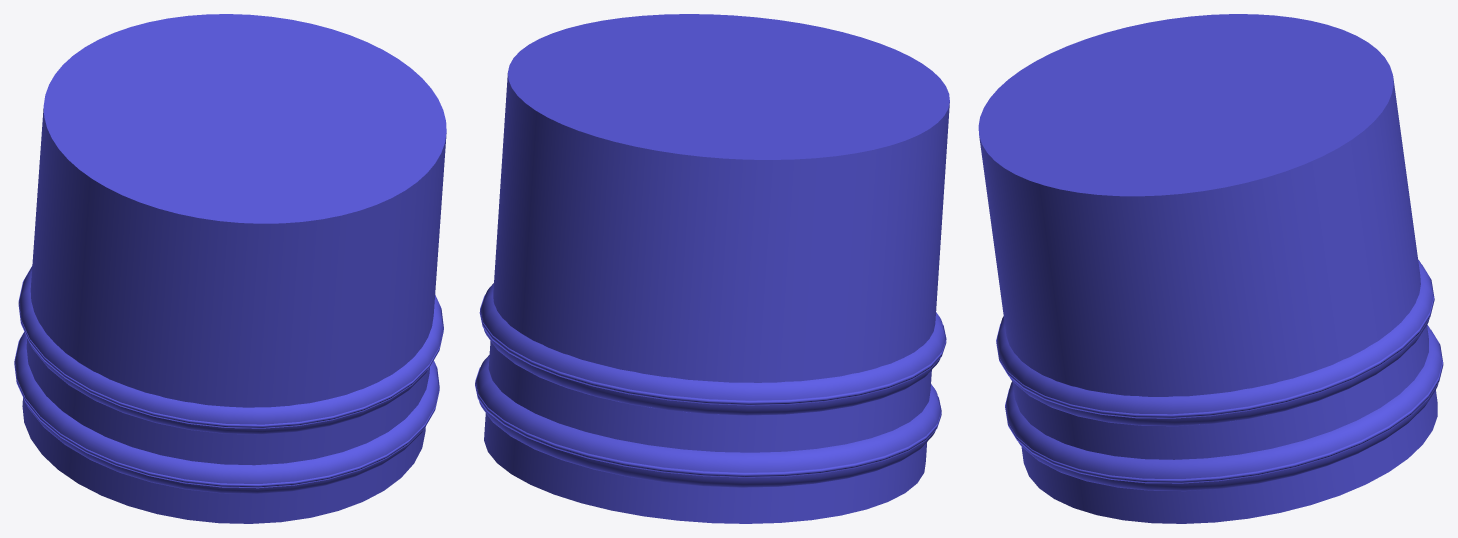
The model's file is bombilla250.obj.
The picture shows the model from 3 angles, left to right: view 1: azimuth 30°, elevation 25°; view 2: azimuth 150°, elevation 25°; view 3: azimuth 270°, elevation 25°; orthographic projection. The views are drawn at different scales.
Parts seen in each view (by area): view 1: Cylinder001, Cylinder004, Cylinder002, Cylinder003, Cylinder006; view 2: Cylinder001, Cylinder004, Cylinder003, Cylinder006, Cylinder002; view 3: Cylinder001, Cylinder004, Cylinder003, Cylinder002, Cylinder006.
Boxes of the visible parts, bbox=[...] form: Cylinder001: bbox=[30, 14, 446, 407]; Cylinder004: bbox=[14, 331, 439, 493]; Cylinder002: bbox=[18, 266, 443, 434]; Cylinder003: bbox=[26, 338, 429, 465]; Cylinder006: bbox=[22, 398, 425, 523]; Cylinder001: bbox=[493, 14, 949, 382]; Cylinder004: bbox=[475, 355, 941, 487]; Cylinder003: bbox=[488, 341, 931, 452]; Cylinder006: bbox=[484, 413, 926, 523]; Cylinder002: bbox=[479, 283, 946, 415]; Cylinder001: bbox=[978, 14, 1420, 396]; Cylinder004: bbox=[1005, 324, 1443, 491]; Cylinder003: bbox=[1012, 325, 1428, 459]; Cylinder002: bbox=[996, 259, 1434, 426]; Cylinder006: bbox=[1021, 390, 1437, 523].
Bounding box in the file's own units: 72.23 × 67.49 × 76.08.
